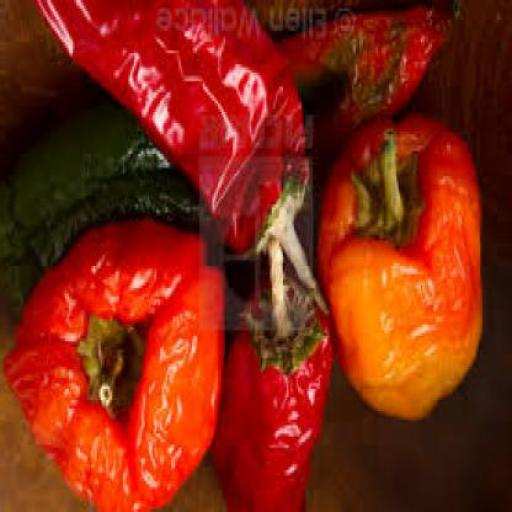biodegradable: (38, 2, 332, 325), (2, 220, 232, 511), (320, 118, 486, 425), (2, 100, 213, 322), (277, 3, 466, 188), (214, 244, 339, 510)
